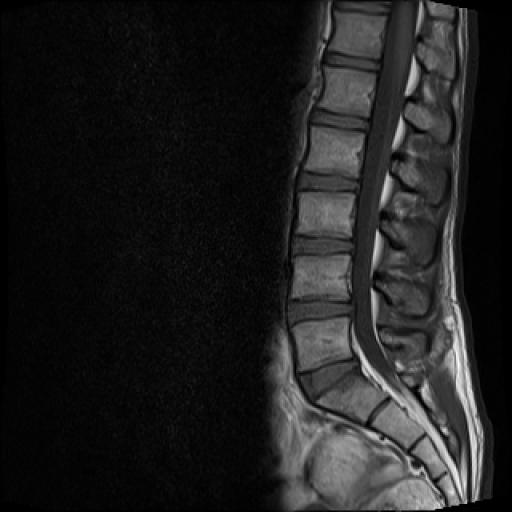L1: (318, 66, 377, 118)
L2: (304, 126, 365, 178)
L3: (296, 193, 354, 238)
L4: (292, 254, 350, 302)
L5: (292, 317, 352, 370)
S1: (316, 370, 388, 424)
